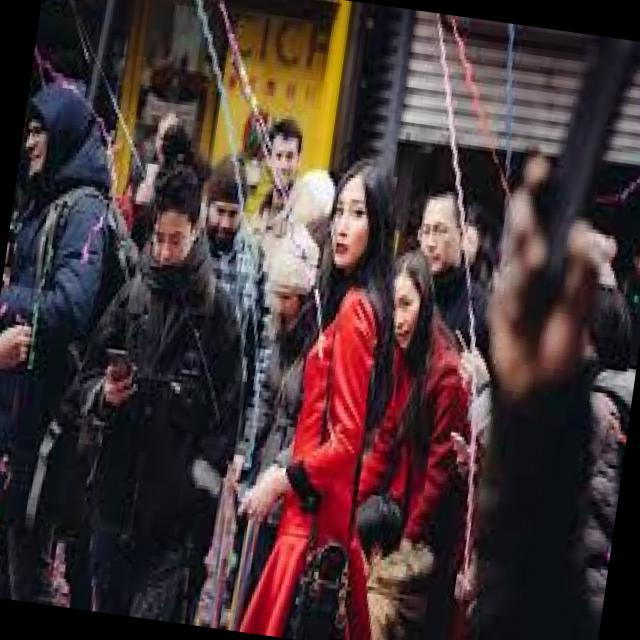Jacket: (55, 246, 271, 584), (235, 277, 402, 640), (341, 320, 513, 640), (0, 176, 120, 502)
